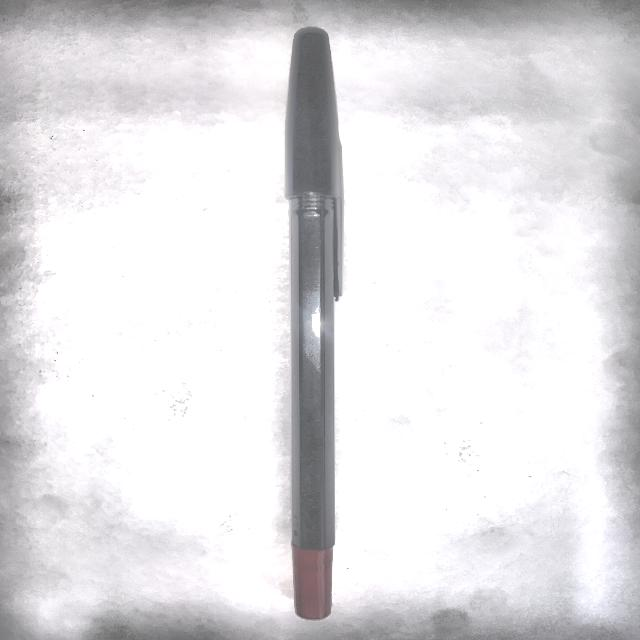Pulpen: (269, 20, 370, 629)
